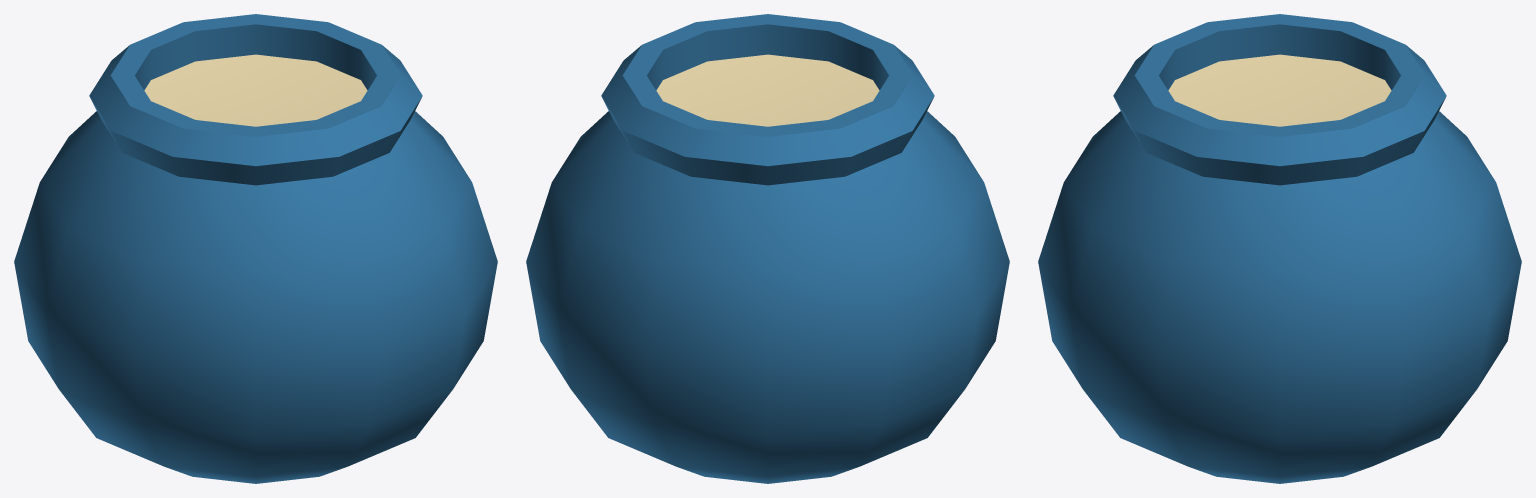
The model's file is Pot_Blue.fbx.
3 renders of one model, left to right at view 1: azimuth 30°, elevation 25°; view 2: azimuth 150°, elevation 25°; view 3: azimuth 270°, elevation 25°, orthographic.
Visible parts, largest first — view 1: Pot_Blue; view 2: Pot_Blue; view 3: Pot_Blue.
Part boxes in pixels (x1,y1,x2,y2): Pot_Blue: (14,14,497,483); Pot_Blue: (526,14,1009,483); Pot_Blue: (1038,14,1521,483).
Size of the model in its own units: 56.26 by 45.52 by 56.26.
